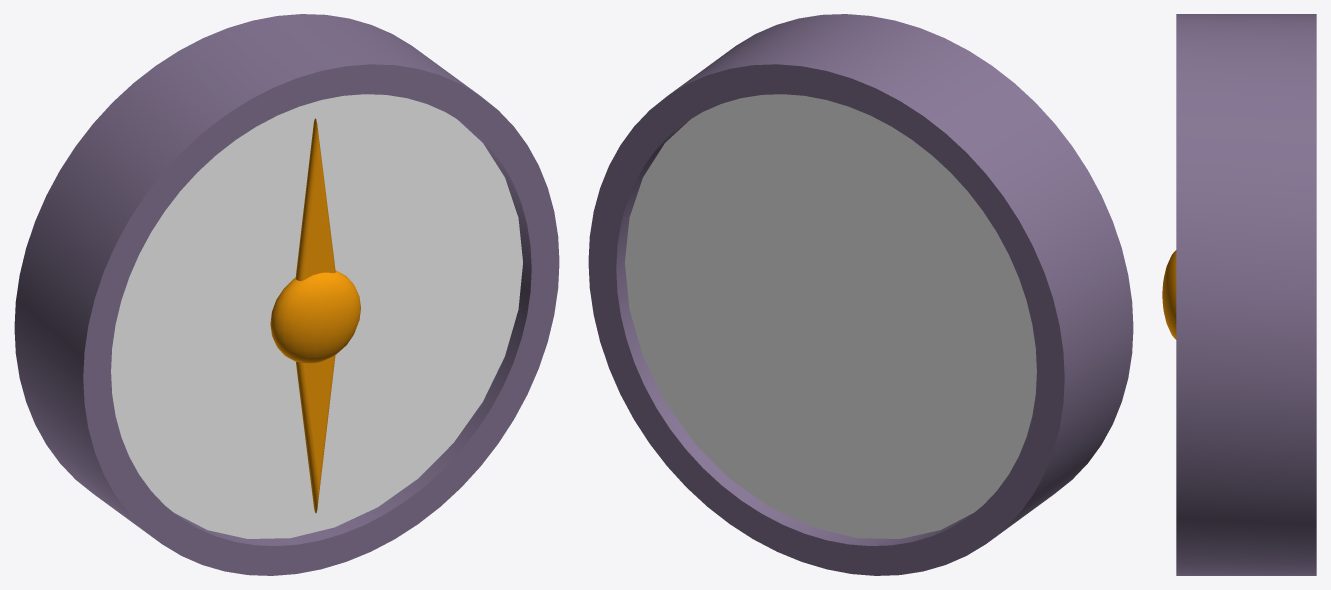
Rendered from compass.gltf.
3 renders of one model, left to right at view 1: azimuth 30°, elevation 25°; view 2: azimuth 150°, elevation 25°; view 3: azimuth 270°, elevation 25°, orthographic. The views are drawn at different scales.
Visible parts, largest first — view 1: Cylinder, Tube, Arrows, ArrowCenter; view 2: Cylinder, Tube; view 3: Tube, ArrowCenter.
Boxes of the visible parts, x1,y1,x2,y2 form: Cylinder: (111, 94, 522, 538); Tube: (14, 14, 559, 575); Arrows: (295, 118, 335, 513); ArrowCenter: (270, 270, 360, 363); Cylinder: (625, 94, 1036, 538); Tube: (588, 14, 1133, 575); Tube: (1176, 14, 1316, 575); ArrowCenter: (1162, 250, 1176, 339).
Size of the model in its own units: 240 by 240 by 66.
